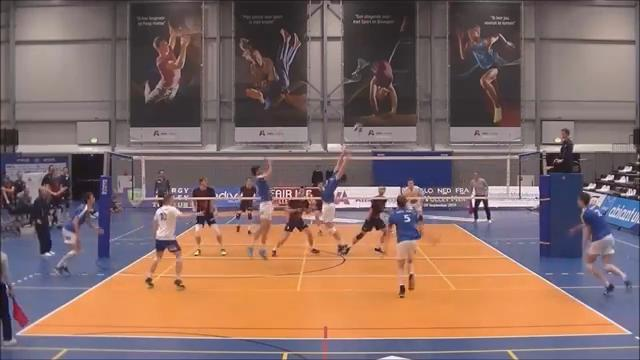alzata: (317, 139, 352, 258)
